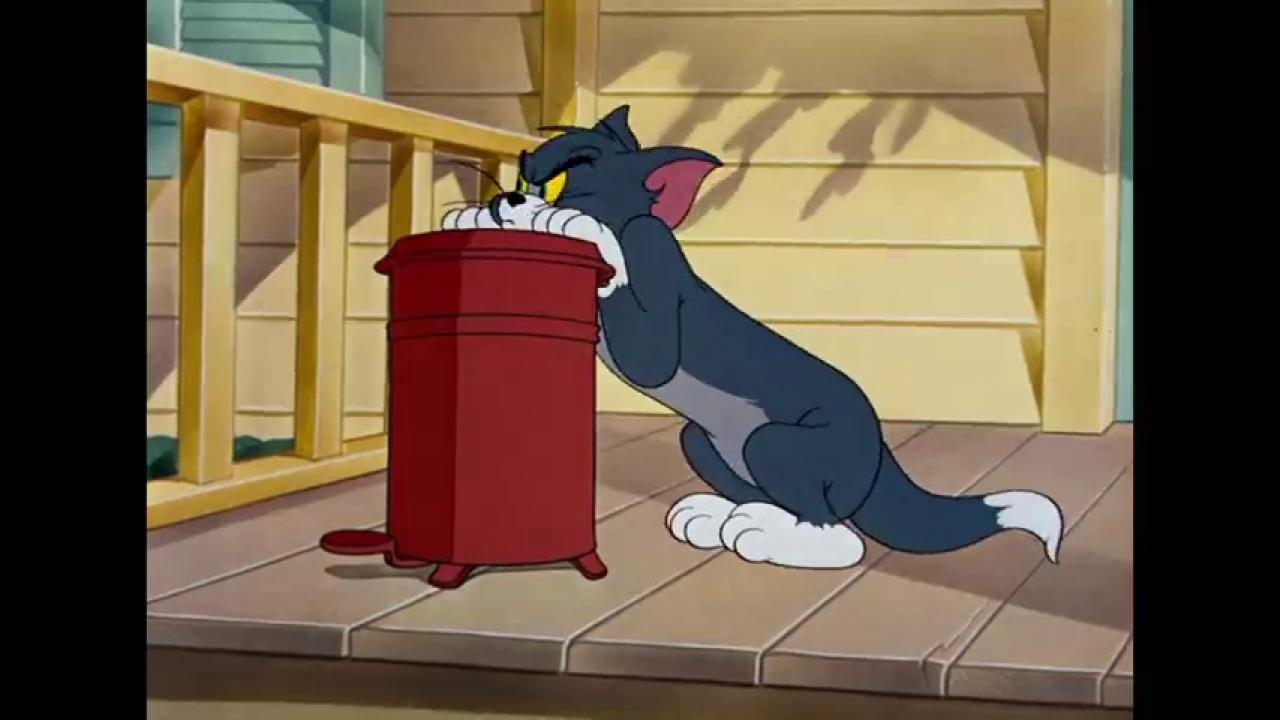Tom: (441, 99, 1065, 567)
